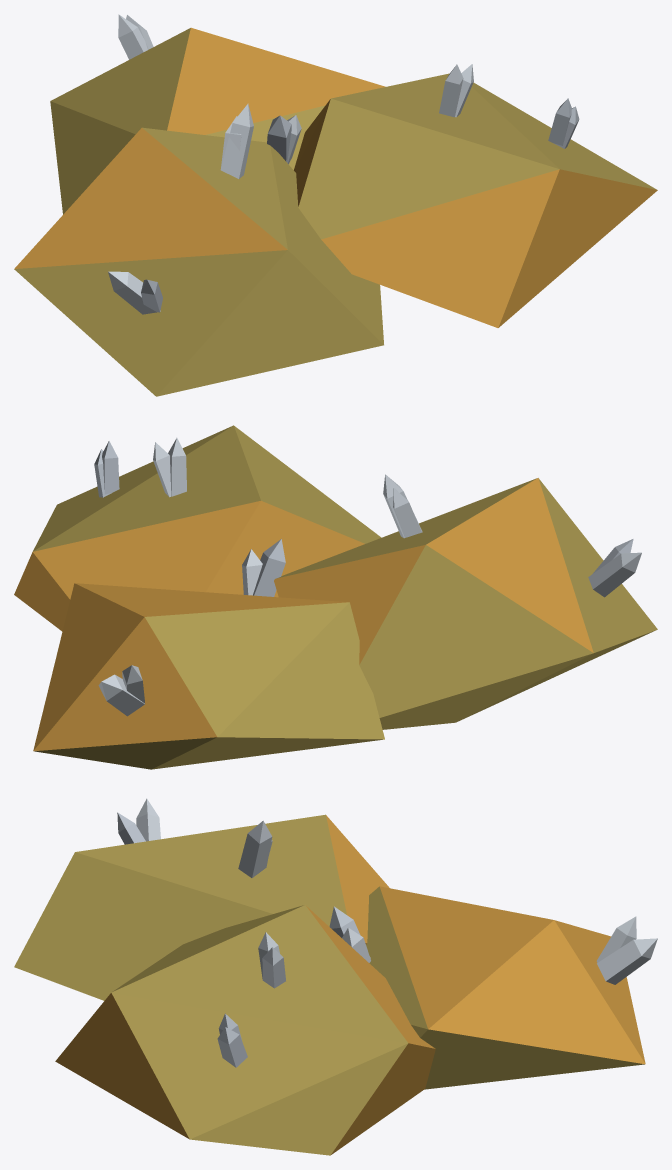
The model's file is minerai_zinc_2.glb.
3 renders of one model, top to bottom at view 1: azimuth 30°, elevation 25°; view 2: azimuth 150°, elevation 25°; view 3: azimuth 270°, elevation 25°, orthographic. The views are drawn at different scales.
Visible parts, largest first — view 1: minerai_zinc_roche.004, minerai_zinc_miel.004, minerai_zinc_metal.004, minerai_gris_clair.008; view 2: minerai_zinc_roche.004, minerai_zinc_miel.004, minerai_zinc_metal.004, minerai_gris_clair.008; view 3: minerai_zinc_roche.004, minerai_zinc_miel.004, minerai_zinc_metal.004, minerai_gris_clair.008.
Boxes of the visible parts, box(x1,y1,x2,y2) form: minerai_zinc_roche.004: box(14, 28, 656, 396); minerai_zinc_miel.004: box(14, 27, 657, 327); minerai_zinc_metal.004: box(108, 14, 473, 314); minerai_gris_clair.008: box(141, 98, 579, 312); minerai_zinc_roche.004: box(32, 425, 657, 769); minerai_zinc_miel.004: box(14, 478, 593, 751); minerai_zinc_metal.004: box(98, 438, 641, 716); minerai_gris_clair.008: box(94, 441, 633, 596); minerai_zinc_roche.004: box(14, 814, 644, 1155); minerai_zinc_miel.004: box(55, 815, 645, 1154); minerai_zinc_metal.004: box(136, 798, 657, 988); minerai_gris_clair.008: box(117, 812, 370, 1067).
Bounding box in the file's own units: 0.5547 × 0.161 × 0.5395.
